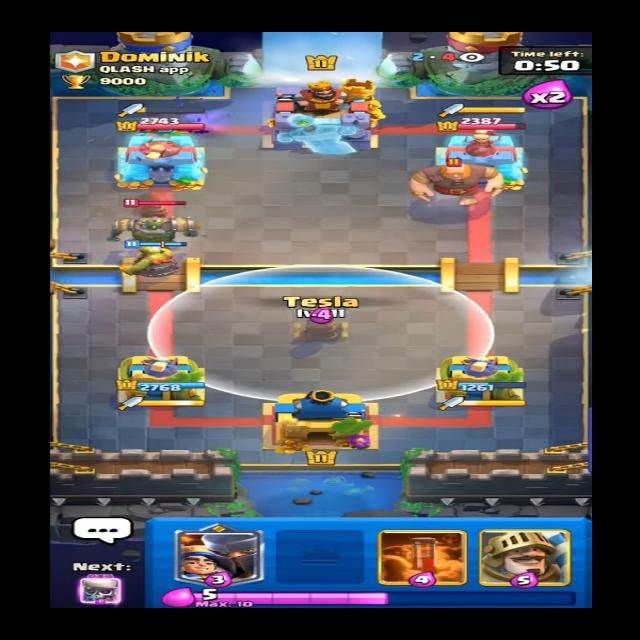giant: (403, 152, 506, 205)
goblin-machine: (106, 192, 204, 250)
